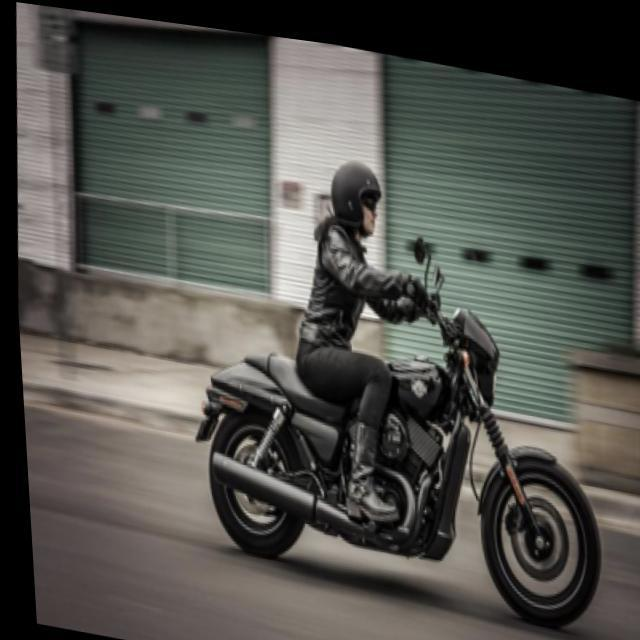Helmet: (315, 153, 388, 247)
